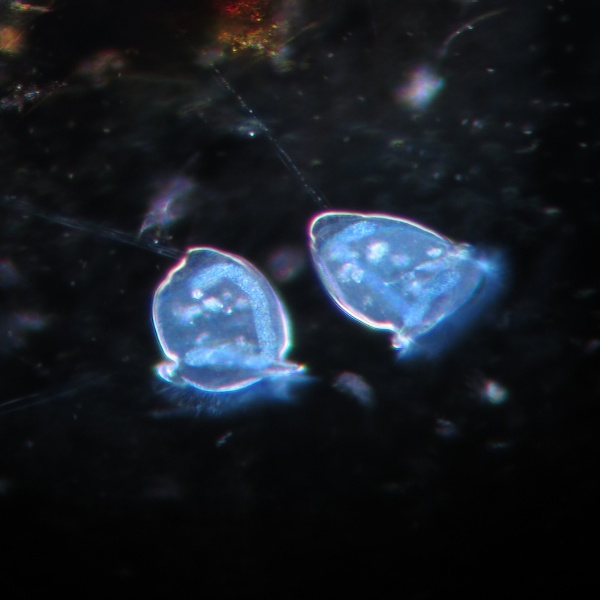Jellyfish: (299, 211, 494, 353), (139, 238, 304, 390)
